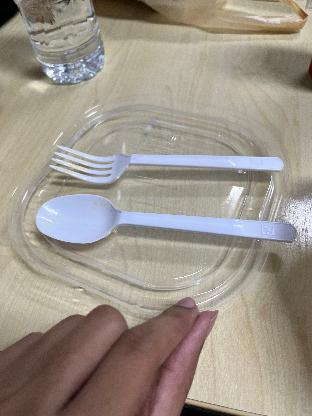Others: (27, 188, 301, 262), (53, 136, 283, 186)
